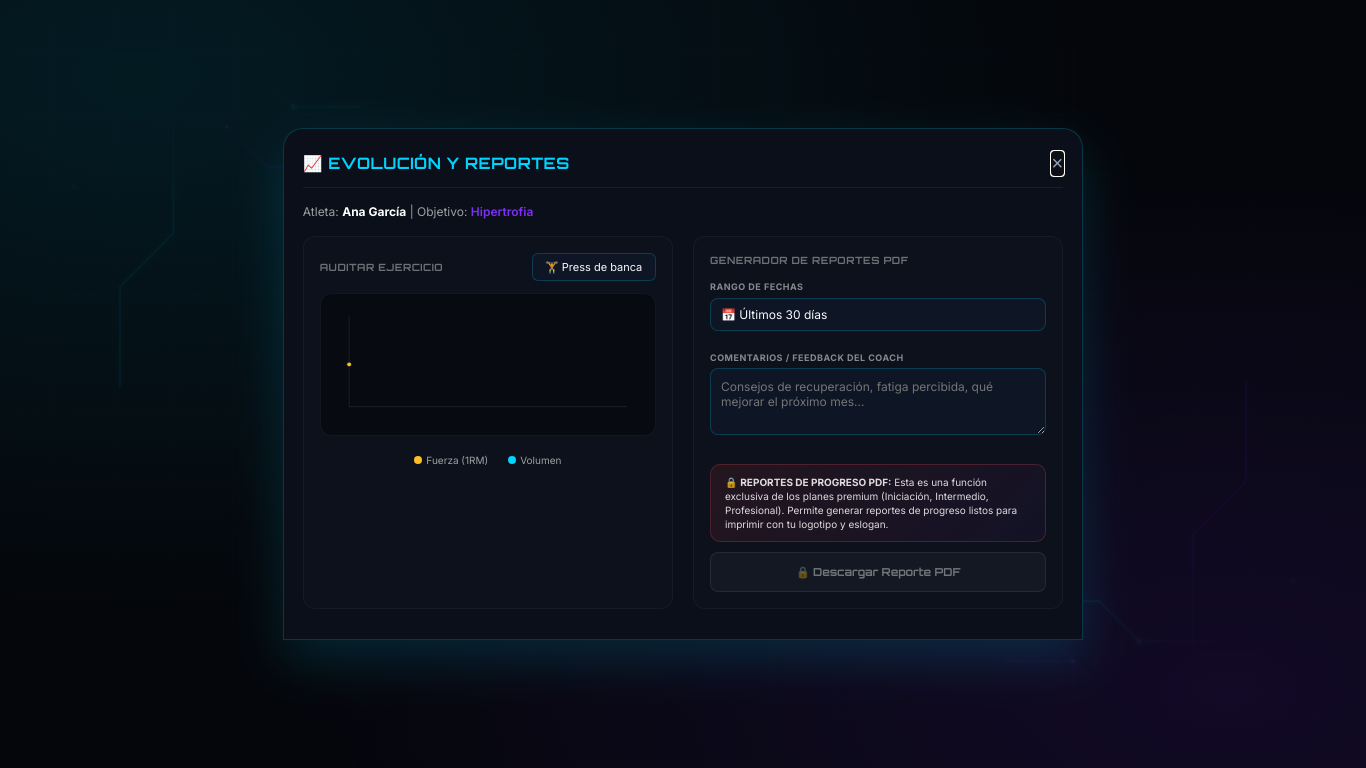
Test: EvolutionModal — selector de rango de fechas para PDF › volver de "custom" a "30" → los inputs de fecha del rango personalizado desaparecen
// Cambiar a custom
Select "⚙️ Rango personalizado" in the dropdown below "RANGO DE FECHAS": x=878, y=314 [710,298,1046,331]
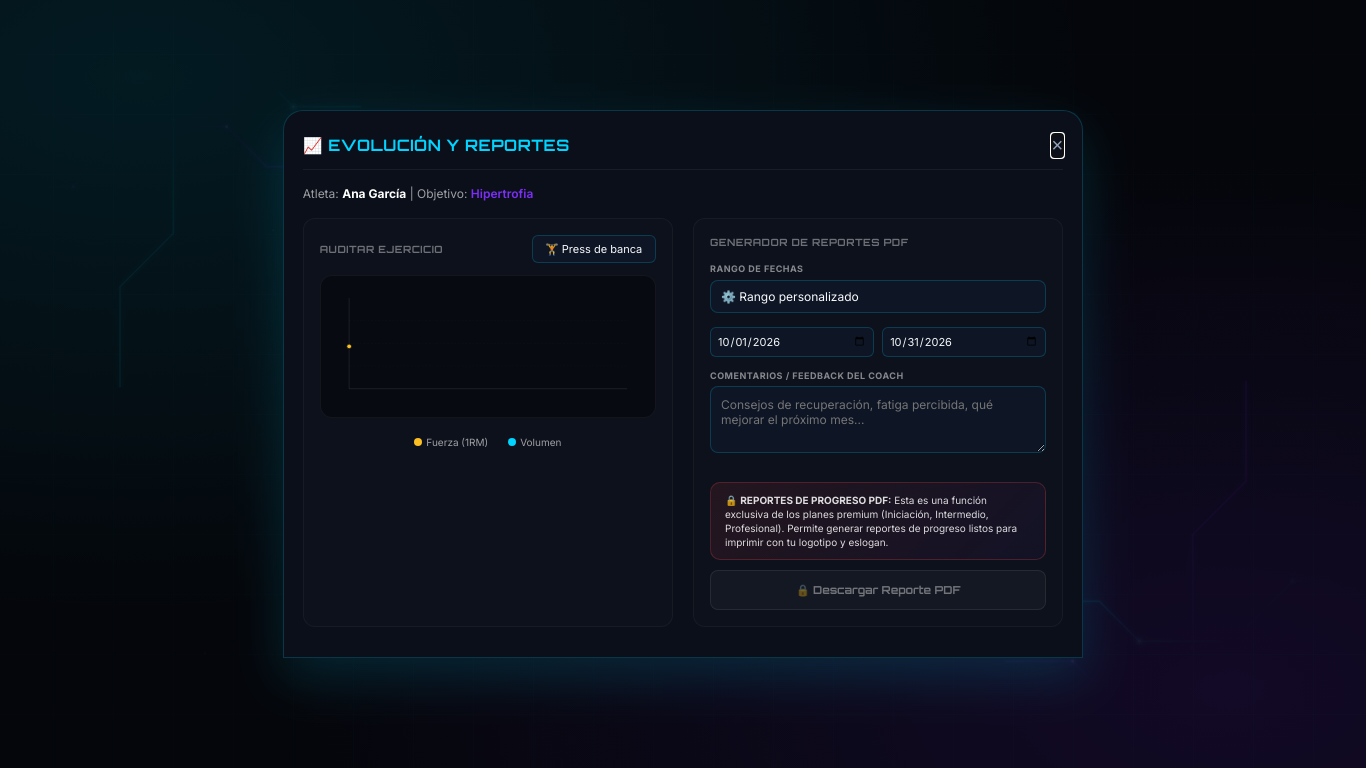
Result: the number of date fields is 2 at [710,327,874,357]; [882,327,1046,357]
// Volver a 30 días
Select "📅 Últimos 30 días" in the dropdown below "RANGO DE FECHAS": x=878, y=296 [710,280,1046,313]
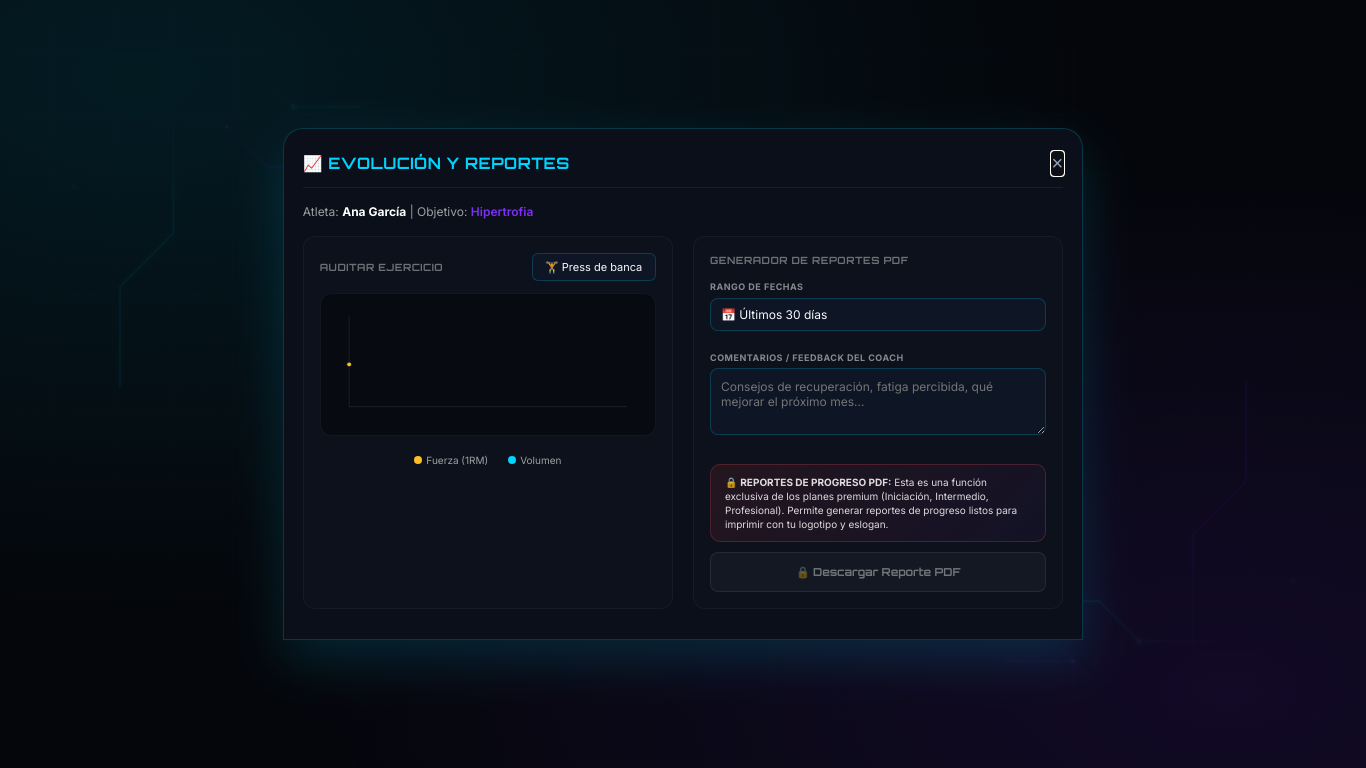
Result: no date fields are shown
